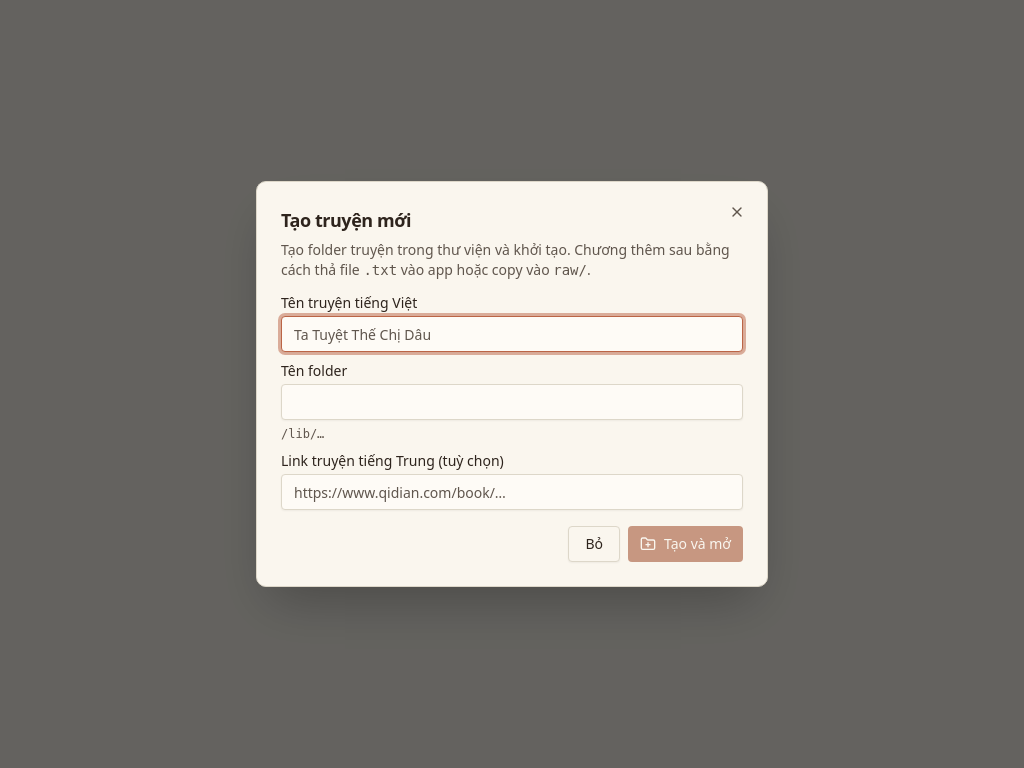
it: CreateStoryDialog › slug sai định dạng thì báo và khoá nút
Step 1. Type "A" into the field labelled "Tên truyện tiếng Việt" → (512, 334), box [281,316,743,352]
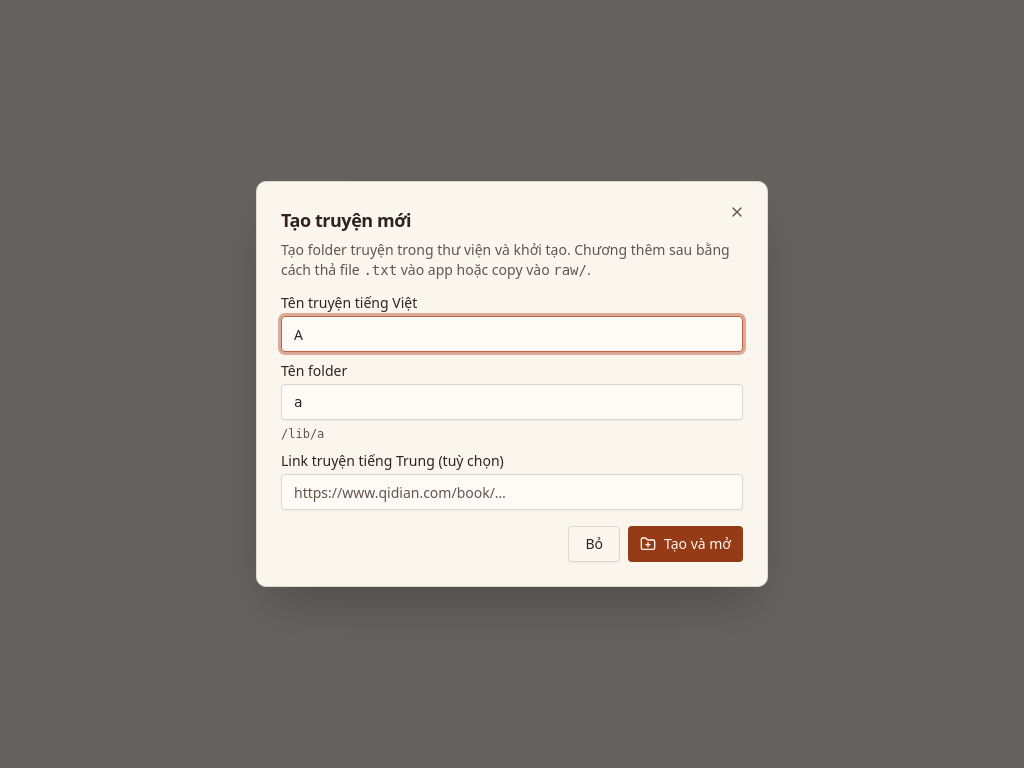
Step 2. Replace the text in the field labelled "Tên folder" with "Sai Slug" → (512, 402), box [281,384,743,420]
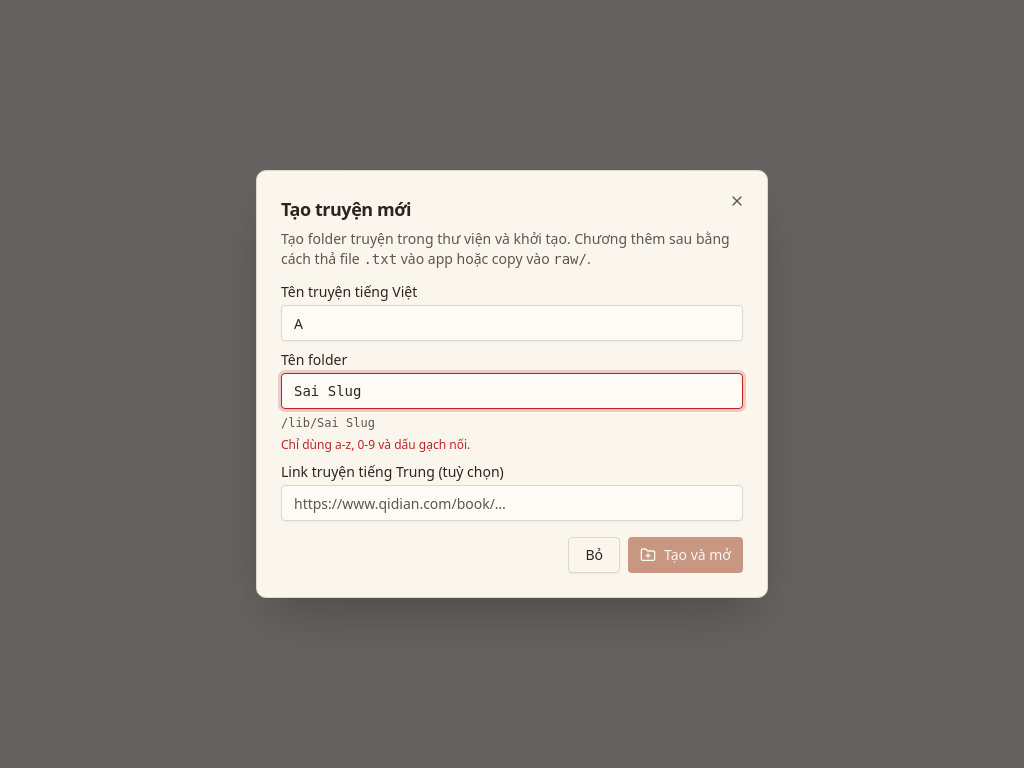
Result: the button "Tạo và mở" is disabled at [628,537,743,573]
Result: the text "Chỉ dùng a-z, 0-9 và dấu gạch nối." is shown at [281,436,470,453]
